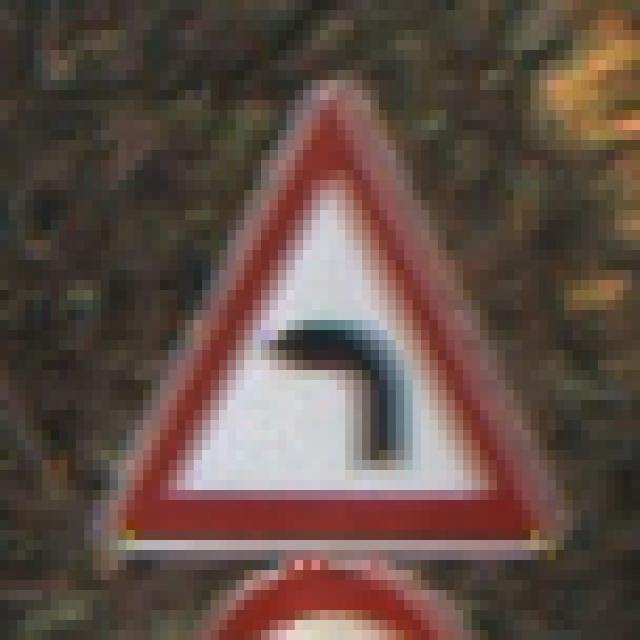left hand curve: (83, 74, 570, 559)
